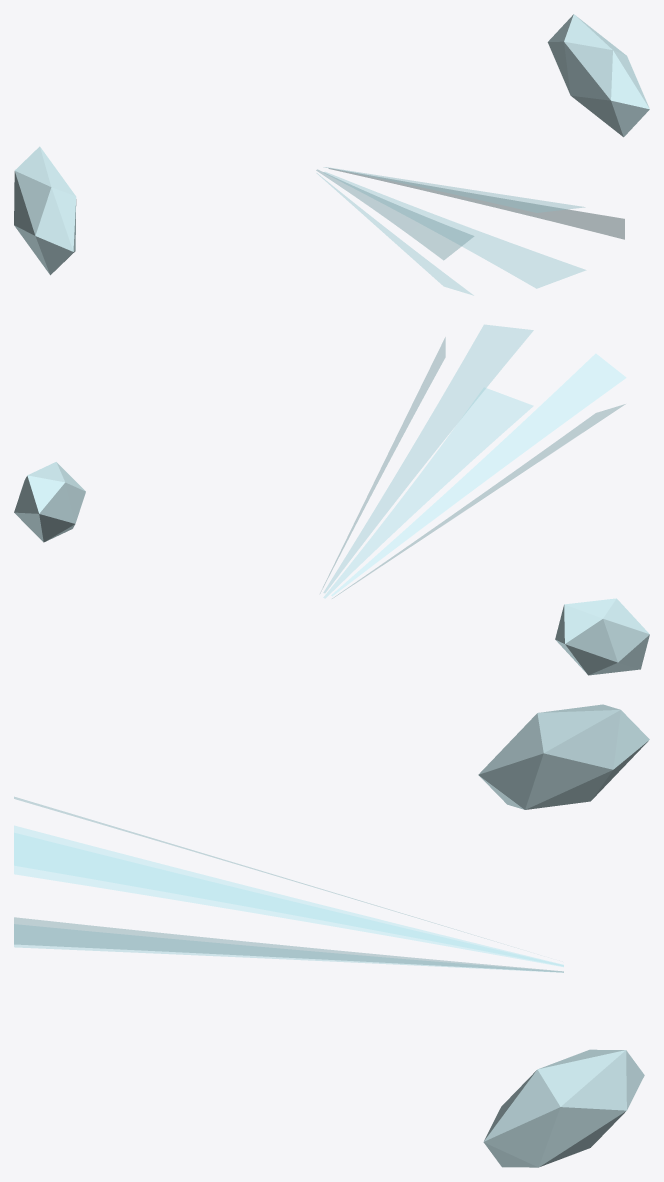
The model's file is water-spray.glb.
The picture shows the model from 3 angles, top to bottom: view 1: azimuth 30°, elevation 25°; view 2: azimuth 150°, elevation 25°; view 3: azimuth 270°, elevation 25°; orthographic projection. The views are drawn at different scales.
Parts seen in each view (by area): view 1: Engine aerated spray, Spray_00, Spray_01; view 2: Engine aerated spray, Spray_01, Spray_00; view 3: Engine aerated spray, Spray_00, Spray_01.
Boxes of the visible parts, x1,y1,x2,y2 form: Engine aerated spray: [316, 167, 624, 295]; Spray_00: [547, 14, 649, 137]; Spray_01: [14, 146, 76, 275]; Engine aerated spray: [320, 324, 626, 598]; Spray_01: [555, 598, 649, 675]; Spray_00: [14, 462, 85, 542]; Engine aerated spray: [14, 796, 563, 972]; Spray_00: [483, 1049, 644, 1167]; Spray_01: [478, 704, 649, 809].
Bounding box in the file's own units: 0.2861 × 0.0578 × 0.1989.
